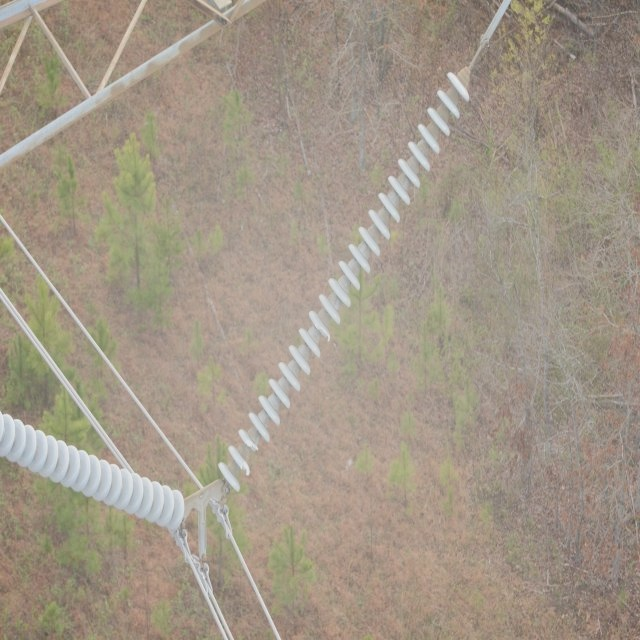broken: (316, 321, 330, 344)
insulator: (218, 72, 470, 496), (0, 408, 186, 528)
